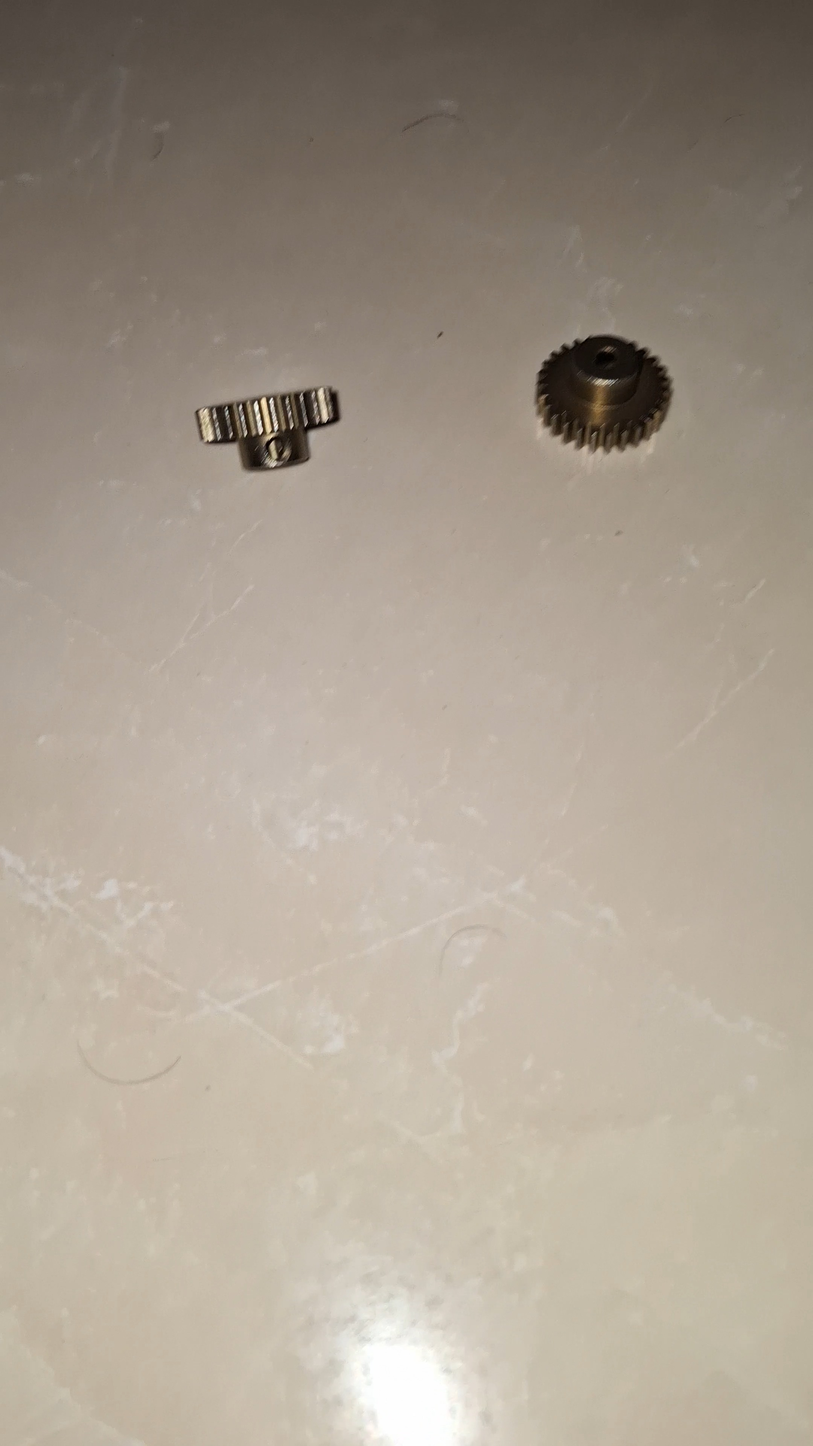spur gear: (536, 336, 671, 451), (196, 387, 338, 470), (196, 387, 338, 442)
